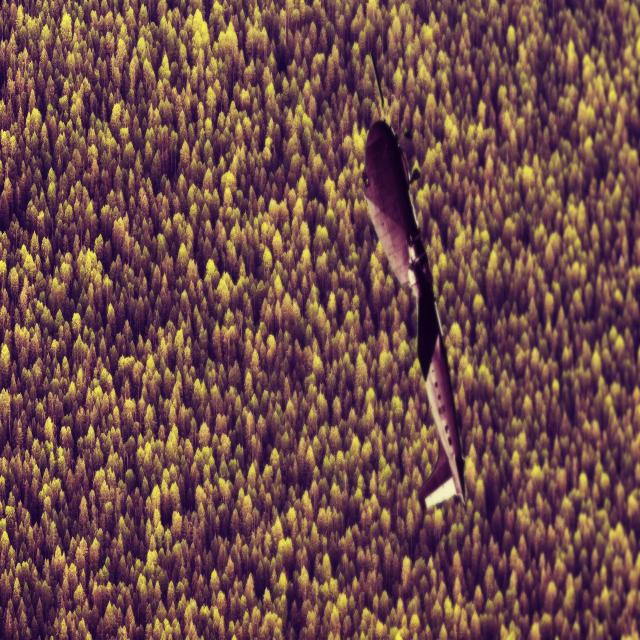airplane: (361, 52, 467, 513)
